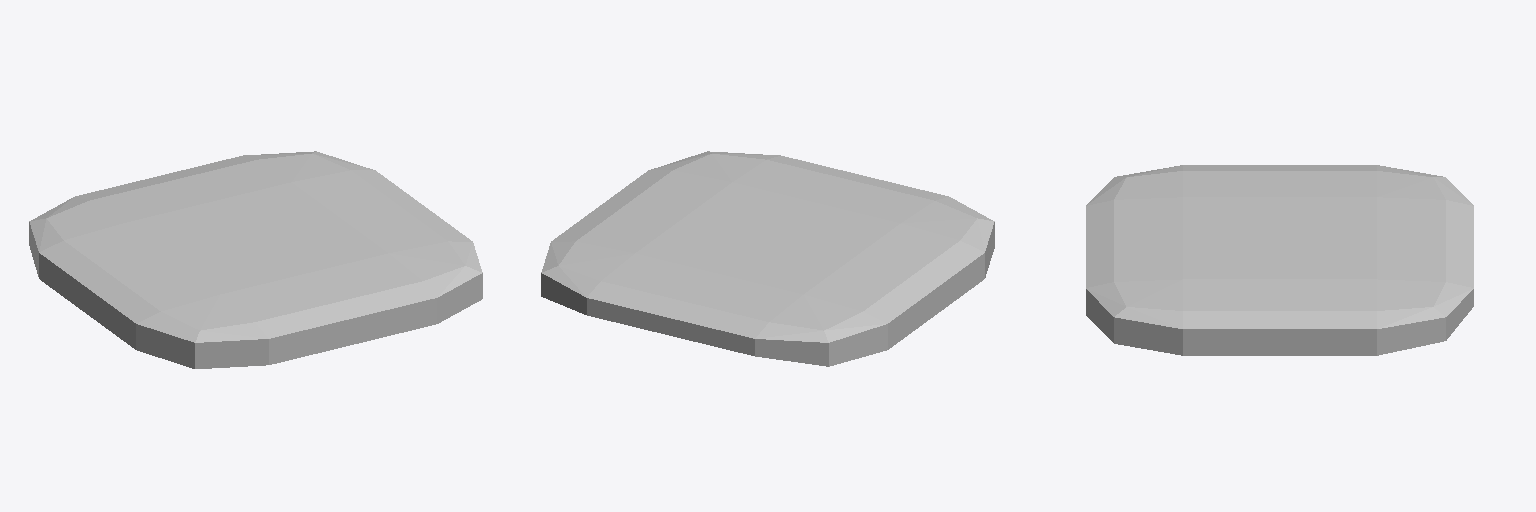
File: pressure plate.obj
The picture shows the model from 3 angles: view 1: azimuth 30°, elevation 25°; view 2: azimuth 150°, elevation 25°; view 3: azimuth 270°, elevation 25°; orthographic projection.
Parts seen in each view (by area): view 1: Cube; view 2: Cube; view 3: Cube.
Boxes of the visible parts, x1,y1,x2,y2 form: Cube: [29, 151, 482, 368]; Cube: [541, 151, 994, 366]; Cube: [1086, 165, 1473, 355].
Bounding box in the file's own units: 2 × 0.2 × 2.